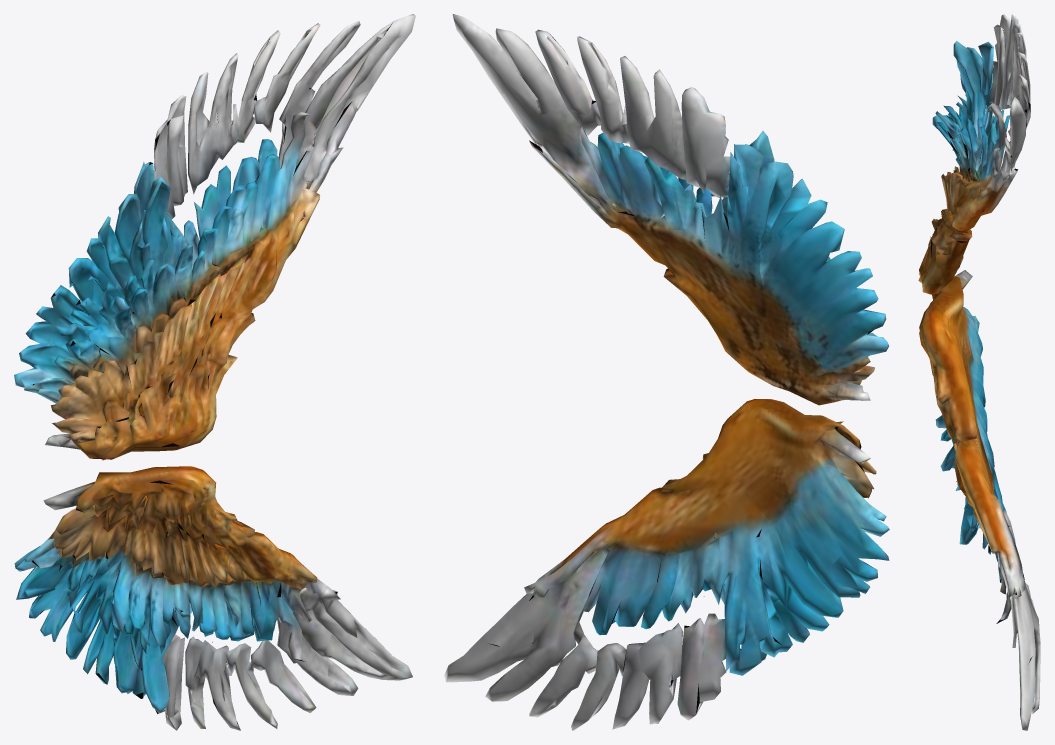
Rendered from back_prp_ailes_aube.glb.
The picture shows the model from 3 angles, left to right: view 1: azimuth 30°, elevation 25°; view 2: azimuth 150°, elevation 25°; view 3: azimuth 270°, elevation 25°; orthographic projection. The views are drawn at different scales.
Visible parts, largest first — view 1: back_prp_ailes_aube; view 2: back_prp_ailes_aube; view 3: back_prp_ailes_aube.
Boxes of the visible parts, x1,y1,x2,y2 form: back_prp_ailes_aube: (14, 14, 415, 730); back_prp_ailes_aube: (444, 14, 889, 730); back_prp_ailes_aube: (918, 14, 1040, 730).
Bounding box in the file's own units: 1.46 × 2.3 × 0.3882.
Materials: 1 (1 with a texture image).
